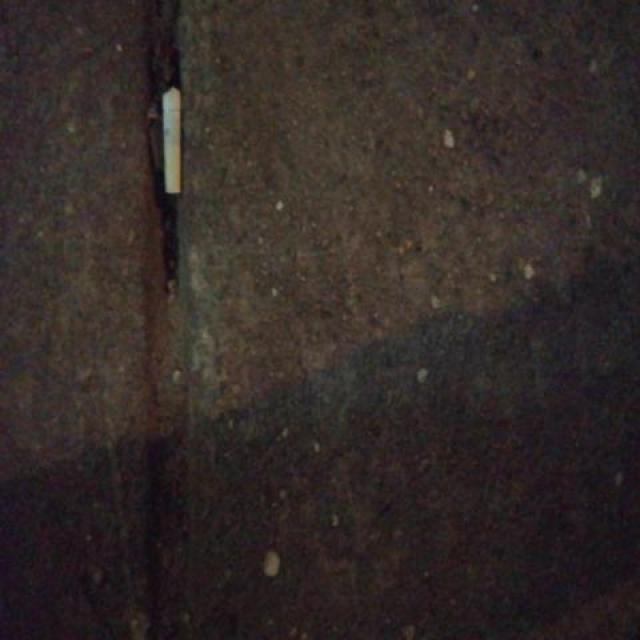non-organic waste: (160, 81, 187, 196)
